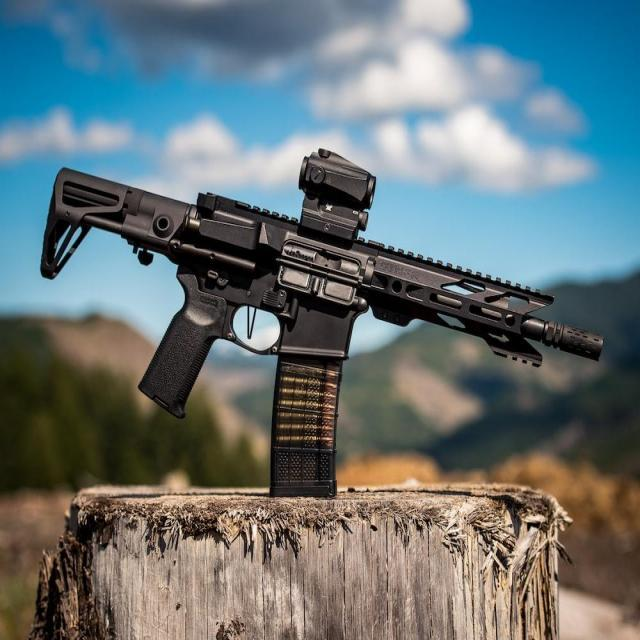weapon: (37, 146, 608, 501)
